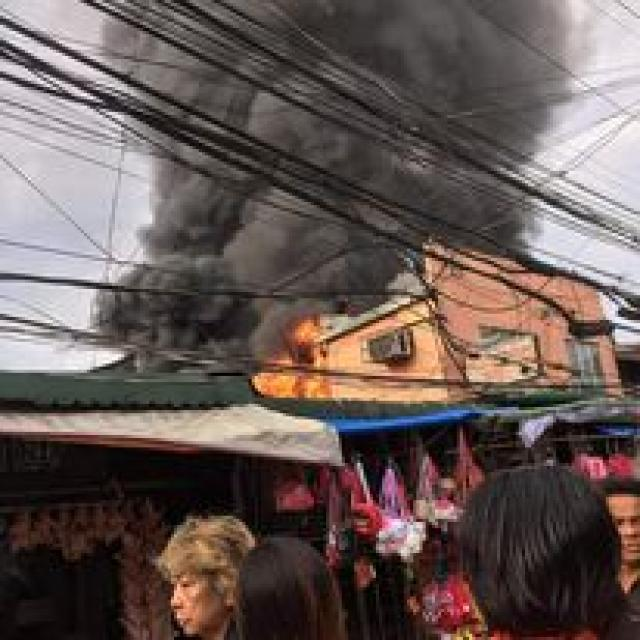Fire: (247, 321, 330, 398)
Smoke: (105, 0, 567, 234), (108, 226, 420, 317)
